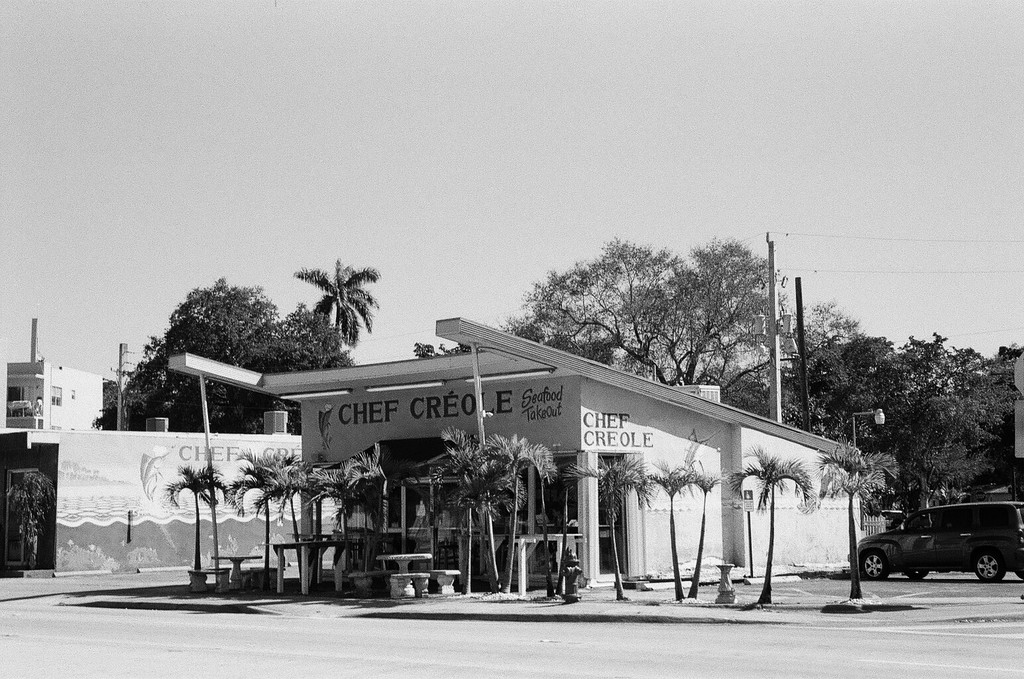Car: (854, 501, 1016, 596)
